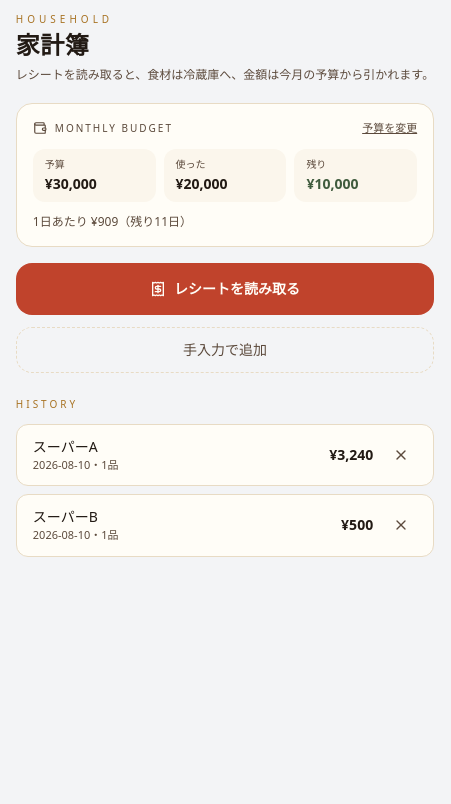
Test: BudgetView — editing a record › edits only the record that was opened
The image size is (451, 804).
Click the button with aria-label "2026-08-10 スーパーB を編集" at (65, 516), box [33,507,329,544]
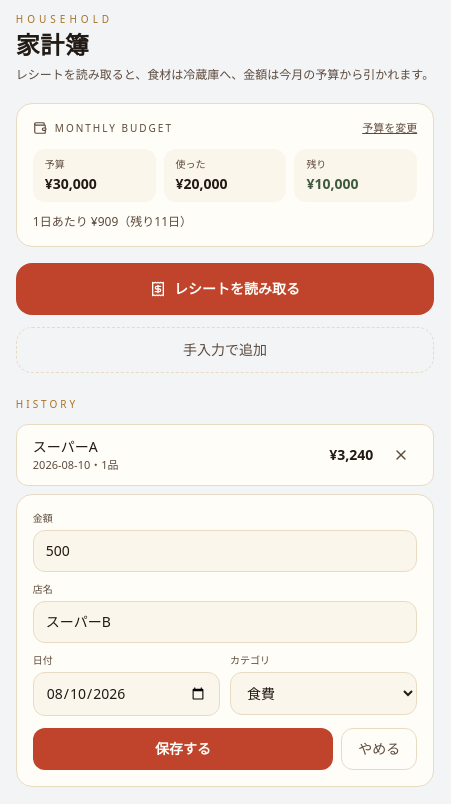
Expected: the button with aria-label "2026-08-10 スーパーA を編集" is shown, [33,436,317,473]
Now the field labelled "金額" holds "500", box [33,530,417,572]
